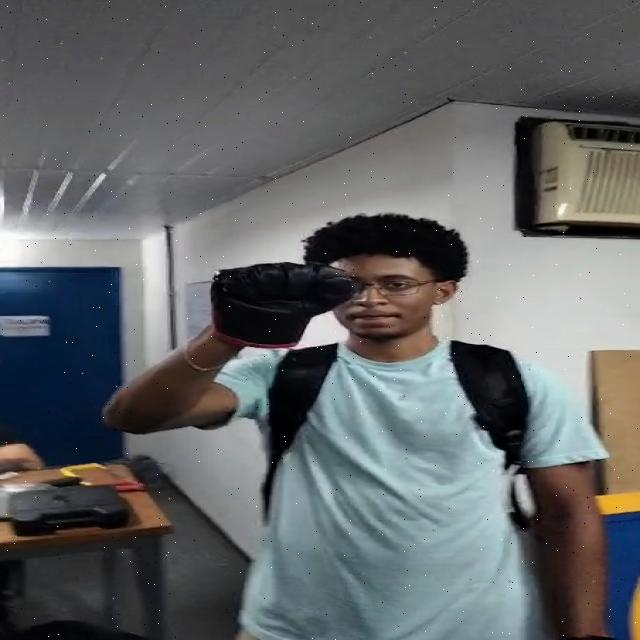Gloves: (214, 262, 358, 351)
